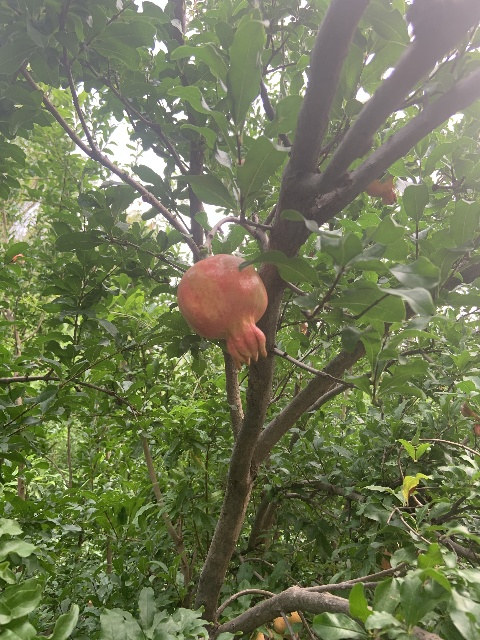ripe: (176, 253, 269, 369), (365, 176, 397, 205)
